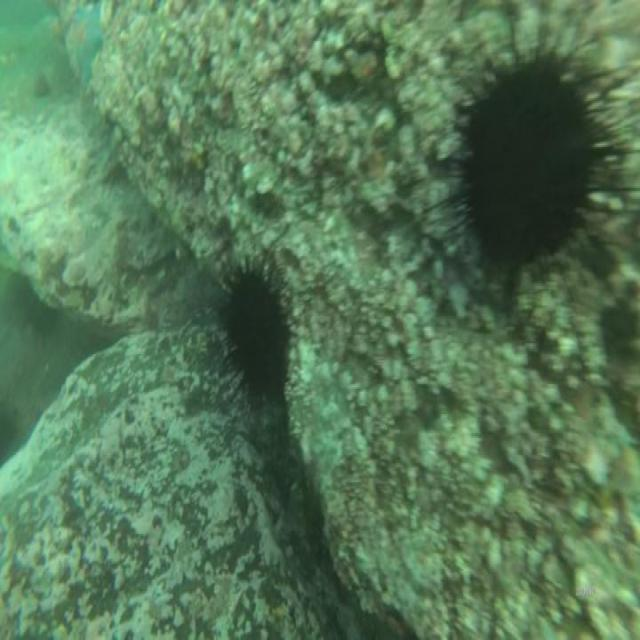echinus: (455, 58, 600, 284), (218, 262, 292, 408)
starfish: (66, 0, 106, 82)
